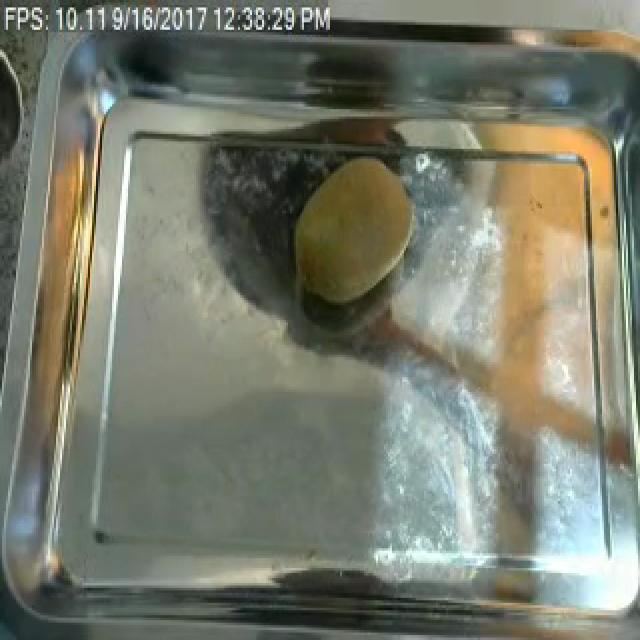Fruit: (282, 146, 426, 312)
